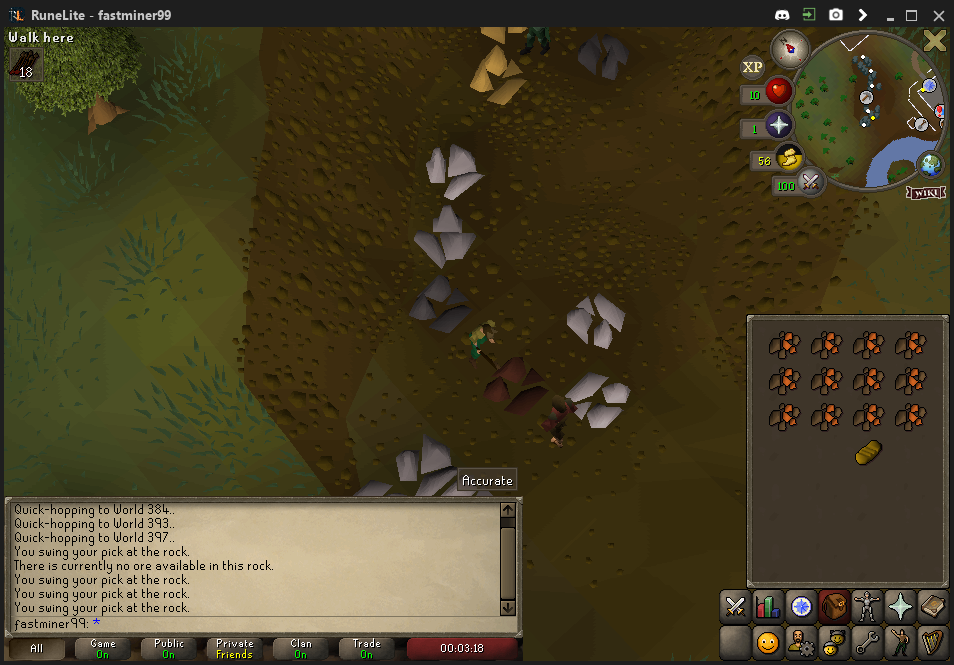depleted: (405, 272, 475, 335)
ore: (486, 357, 545, 409)
